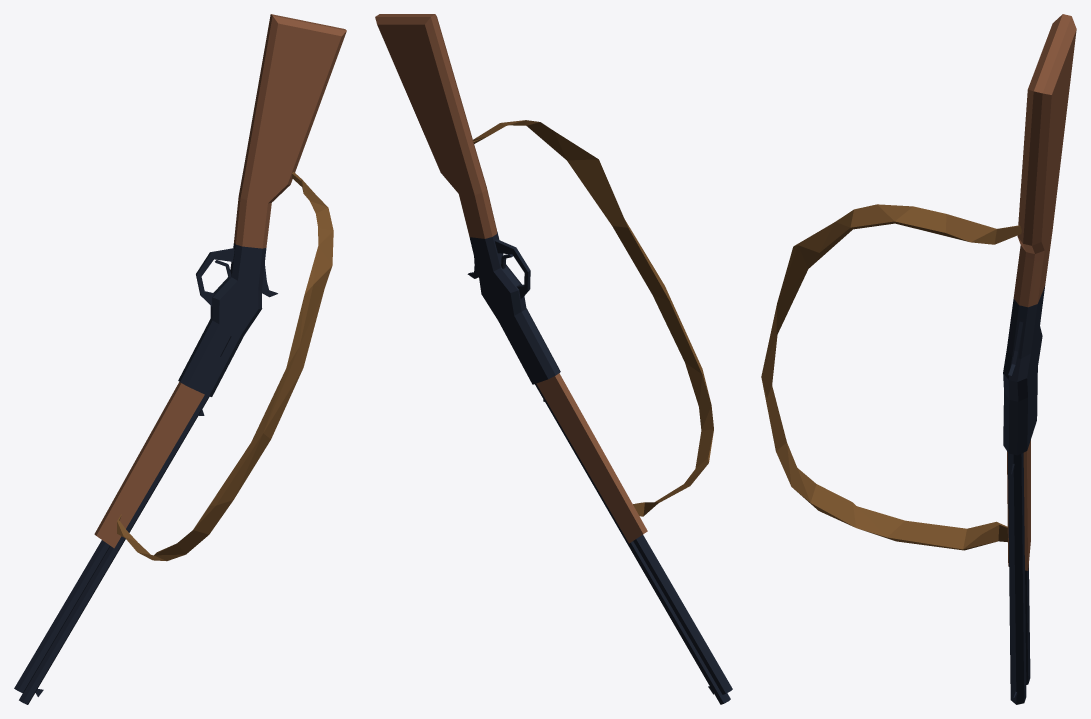
File: Sheriff_Shotgun_Belt.fbx
3 renders of one model, left to right at view 1: azimuth 30°, elevation 25°; view 2: azimuth 150°, elevation 25°; view 3: azimuth 270°, elevation 25°, orthographic. The views are drawn at different scales.
Visible parts, largest first — view 1: Sheriff_Shotgun; view 2: Sheriff_Shotgun; view 3: Sheriff_Shotgun.
Part boxes in pixels (bbox=[...]): Sheriff_Shotgun: bbox=[14, 14, 346, 704]; Sheriff_Shotgun: bbox=[375, 14, 732, 704]; Sheriff_Shotgun: bbox=[761, 14, 1076, 704].
Bounding box in the file's own units: 56.12 × 97.51 × 31.98.
